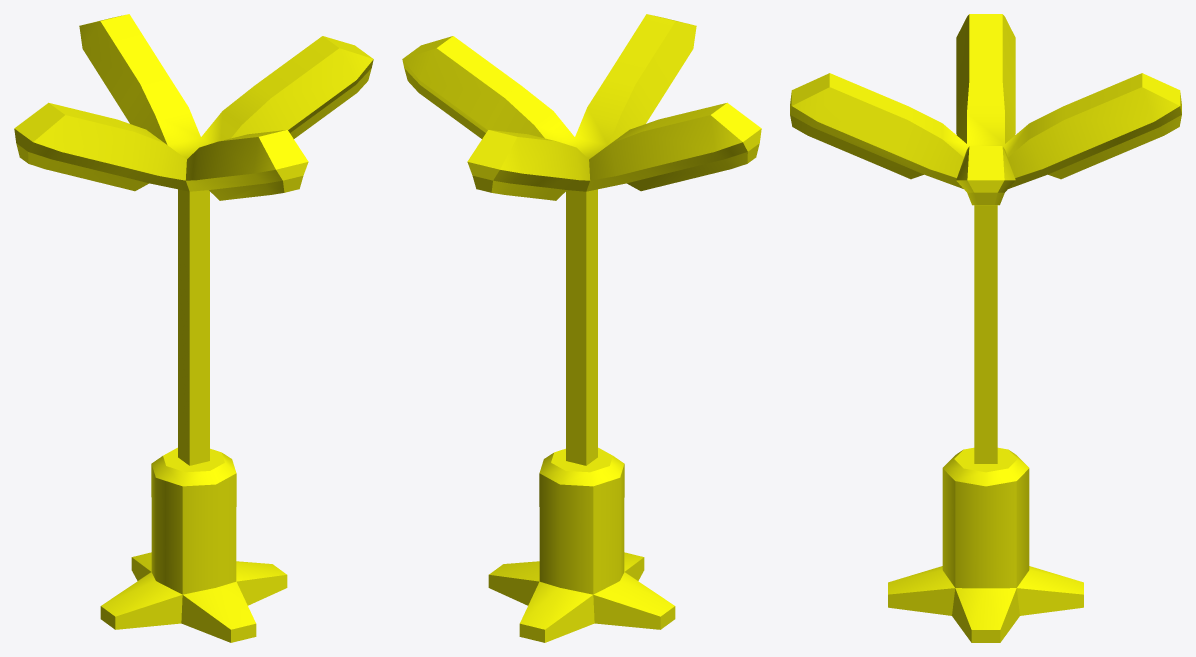
File: kaykit-lights.glb
3 renders of one model, left to right at view 1: azimuth 30°, elevation 25°; view 2: azimuth 150°, elevation 25°; view 3: azimuth 270°, elevation 25°, orthographic.
Parts seen in each view (by area): view 1: lights; view 2: lights; view 3: lights.
Boxes of the visible parts, x1,y1,x2,y2 form: lights: (14,14,373,642); lights: (402,14,761,642); lights: (790,14,1181,642).
Size of the model in its own units: 0.68 by 0.9984 by 0.68.
